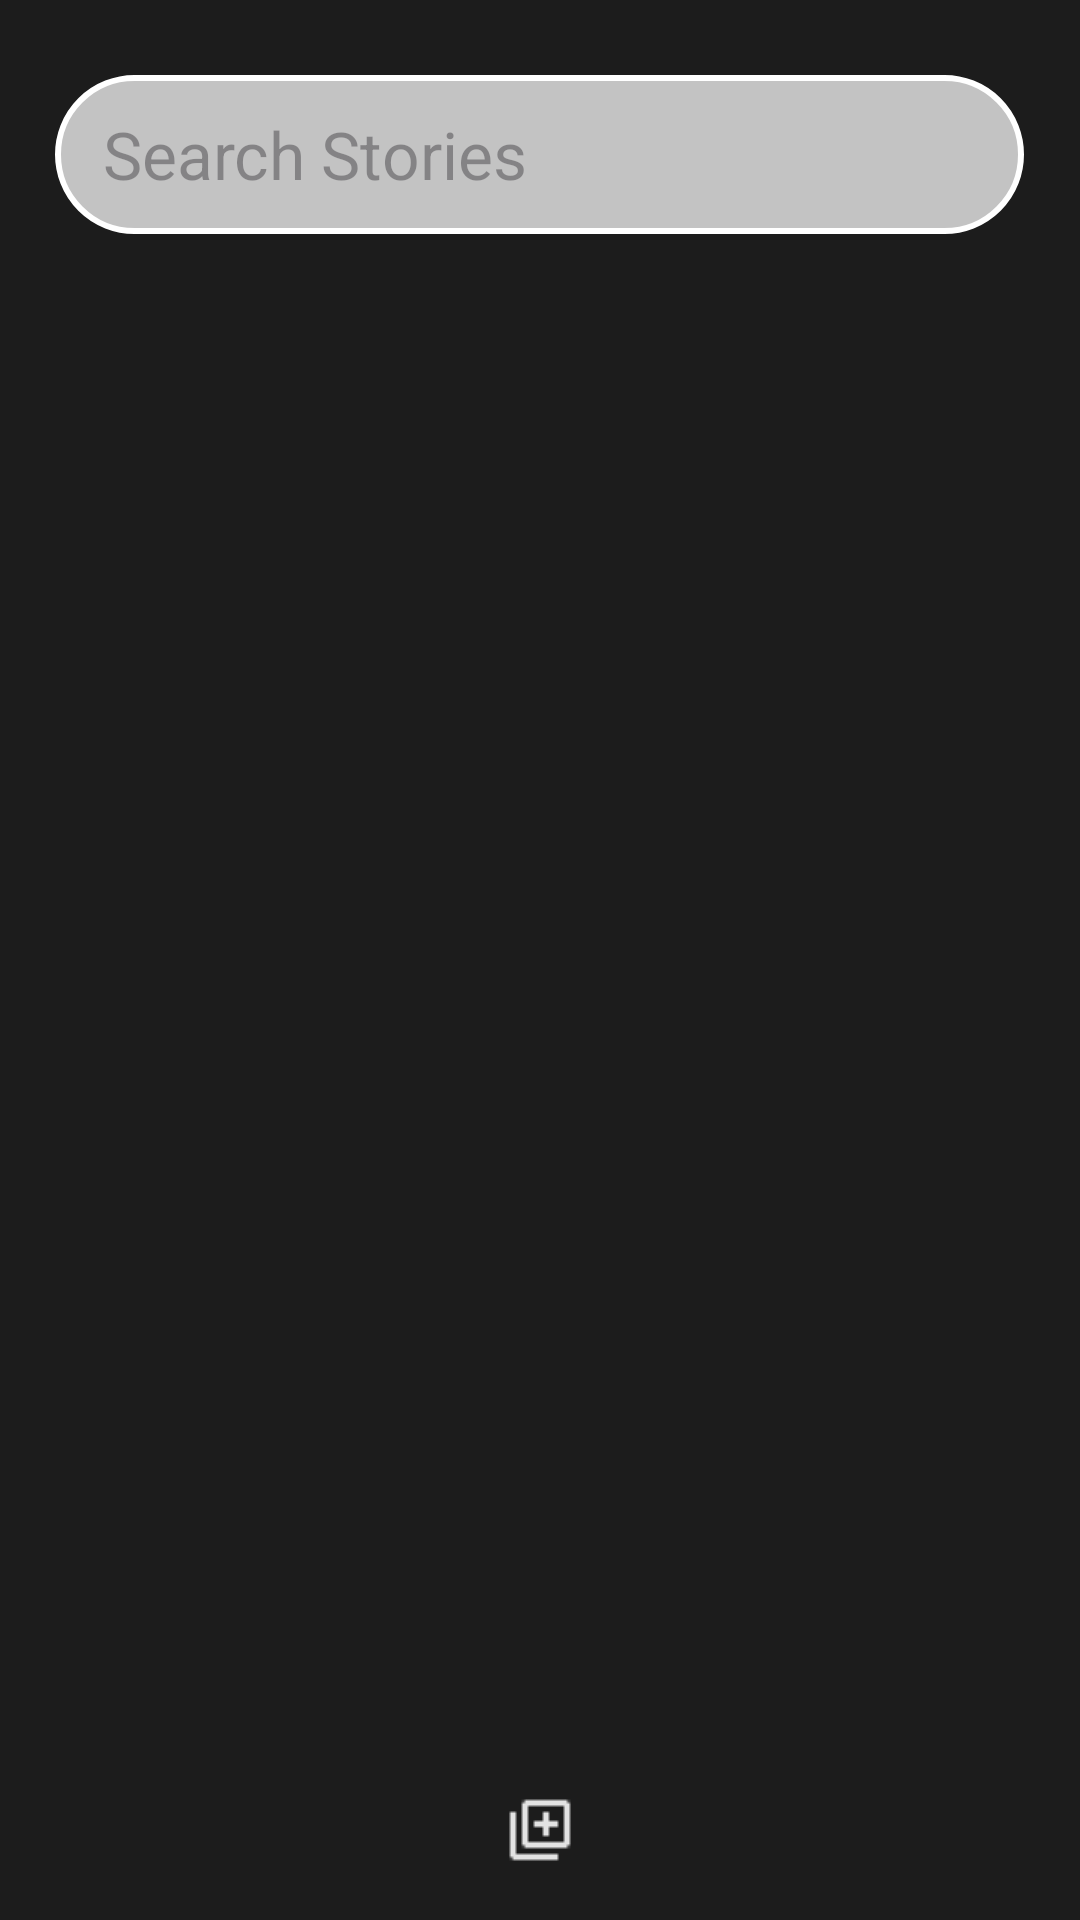

Icon bounding boxes for this 1080 x 1920 phone screenshot, format (x1, y1, x2, y2):
Add Books: (509, 1799, 571, 1861)
